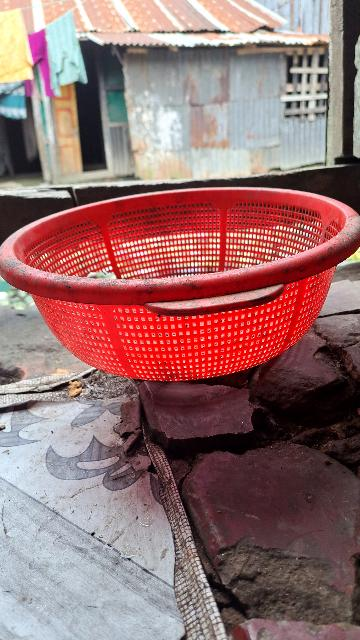hardplastic: (6, 183, 360, 389)
